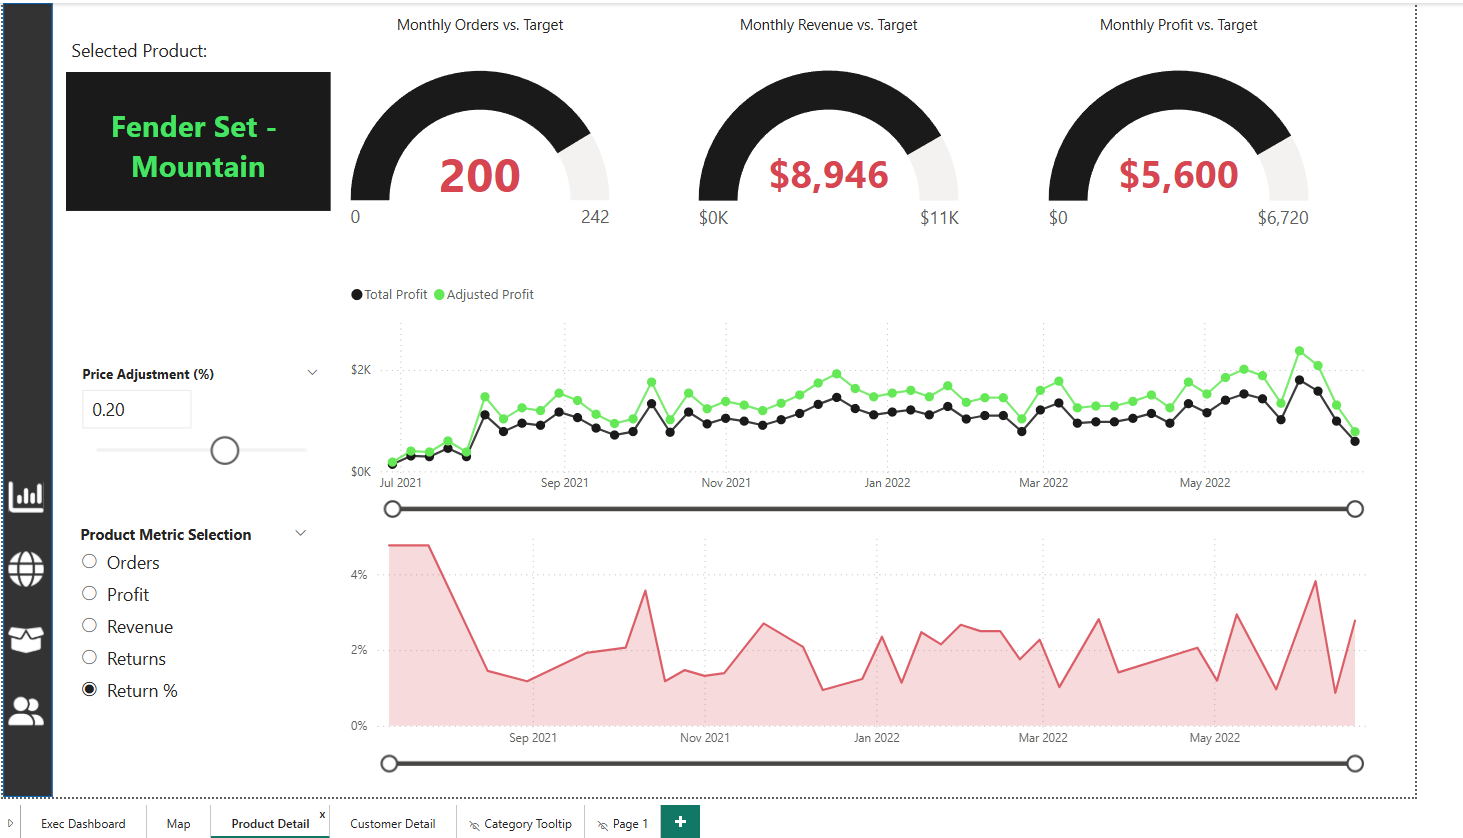

What the dashboard file says about the page in this screenshot:
{"tool":"powerbi","page":{"name":"Product Detail","canvas":[1280,720],"ordinal":2},"visuals":[{"type":"shape","box":[0,0,45,720.2],"z":0},{"type":"gauge","title":"Monthly Orders vs. Target","fields":{"Y":["Measure.Total Orders"],"MaxValue":["Measure.Order Target"]},"box":[309.8,11.2,244.8,232.6],"z":1000},{"type":"gauge","title":"Monthly Profit vs. Target","fields":{"Y":["Measure.Total Profit"],"MaxValue":["Measure.Profit Target"]},"box":[942.7,11.2,245.8,232.6],"z":2000},{"type":"gauge","title":"Monthly Revenue vs. Target","fields":{"Y":["Measure.Total Revenue"],"MaxValue":["Measure.Revenue Target"]},"box":[625.8,11.2,245.8,232.6],"z":3000},{"type":"lineChart","title":"Profit Trending","fields":{"Category":["Calendar Lookup.Date Hierarchy.Start of Year","Calendar Lookup.Date Hierarchy.Start of Month","Calendar Lookup.Date Hierarchy.Start of Week","Calendar Lookup.Date Hierarchy.Date"],"Y":["Measure.Total Profit","Measure.Adjusted Profit"]},"box":[310.3,244.7,944.9,224.8],"z":4000},{"type":"areaChart","title":"Returns Trending","fields":{"Y":["Measure.Return Rate"],"Category":["Calendar Lookup.Date Hierarchy.Start of Year","Calendar Lookup.Date Hierarchy.Start of Month","Calendar Lookup.Date Hierarchy.Start of Week","Calendar Lookup.Date Hierarchy.Date"]},"box":[310.3,469.5,944.9,230.7],"z":5000},{"type":"card","fields":{"Values":["Min(Product Lookup.ProductName)"]},"box":[57.5,62.4,239.7,125.7],"z":6000},{"type":"textbox","box":[57.5,27.3,150.1,35.1],"z":7000},{"type":"actionButton","box":[0.5,428.4,44.8,40.4],"z":8000},{"type":"actionButton","box":[0.5,492.9,44.8,40.4],"z":9000},{"type":"actionButton","box":[0.5,557.4,44.8,40.4],"z":10000},{"type":"actionButton","box":[0.5,621.9,44.8,40.4],"z":11000},{"type":"slicer","fields":{"Values":["Price Adjustment (%).Price Adjustment (%)"]},"box":[58.5,323.2,238.9,105.4],"z":12000},{"type":"slicer","fields":{"Values":["Product Metric Selection.Product Metric Selection"]},"box":[57.4,468.4,230.7,217.8],"z":13000}]}

Visuals, with their boxes on the page's 1280x720 design canvas (x1, y1, x2, y2). These are canvas units, not pixel positions in the 1463x838 screenshot, which may show the page scaled, cropped or inside an application window:
shape: x1=0 y1=0 x2=45 y2=720
"Monthly Orders vs. Target" gauge: x1=310 y1=11 x2=555 y2=244
"Monthly Profit vs. Target" gauge: x1=943 y1=11 x2=1188 y2=244
"Monthly Revenue vs. Target" gauge: x1=626 y1=11 x2=872 y2=244
"Profit Trending" lineChart: x1=310 y1=245 x2=1255 y2=470
"Returns Trending" areaChart: x1=310 y1=470 x2=1255 y2=700
card - Min(Product Lookup.ProductName): x1=58 y1=62 x2=297 y2=188
textbox: x1=58 y1=27 x2=208 y2=62
actionButton: x1=0 y1=428 x2=45 y2=469
actionButton: x1=0 y1=493 x2=45 y2=533
actionButton: x1=0 y1=557 x2=45 y2=598
actionButton: x1=0 y1=622 x2=45 y2=662
slicer - Price Adjustment (%).Price Adjustment (%): x1=58 y1=323 x2=297 y2=429
slicer - Product Metric Selection.Product Metric Selection: x1=57 y1=468 x2=288 y2=686
